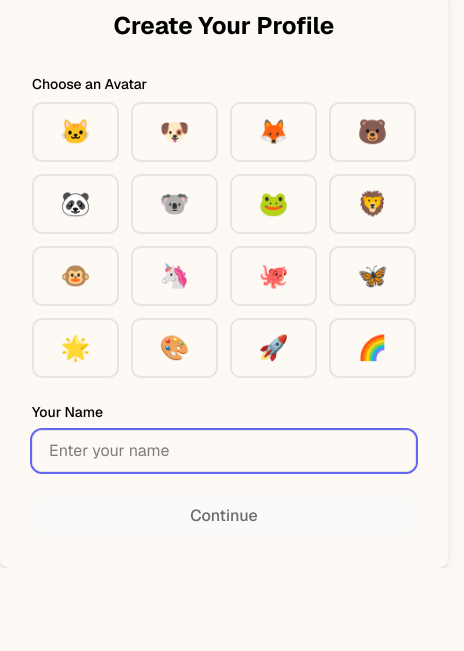
Test: CreateUserForm › error handling › displays error message on database error
Type "Test User" into the field with placeholder "Enter your name" at (224, 451), box [32,430,416,472]
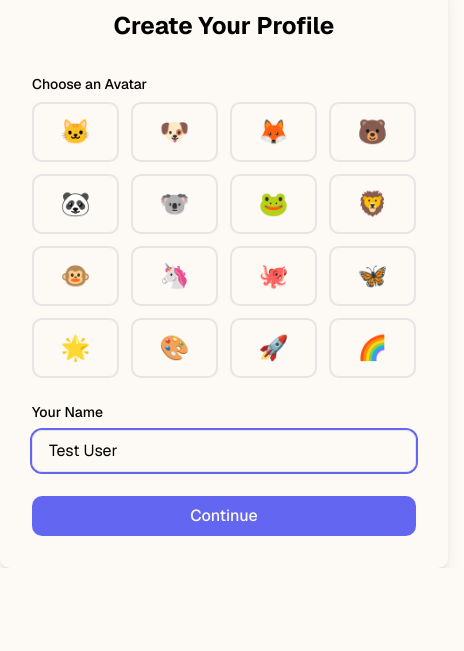
Click the button "Continue" at (224, 516), box [32,496,416,536]
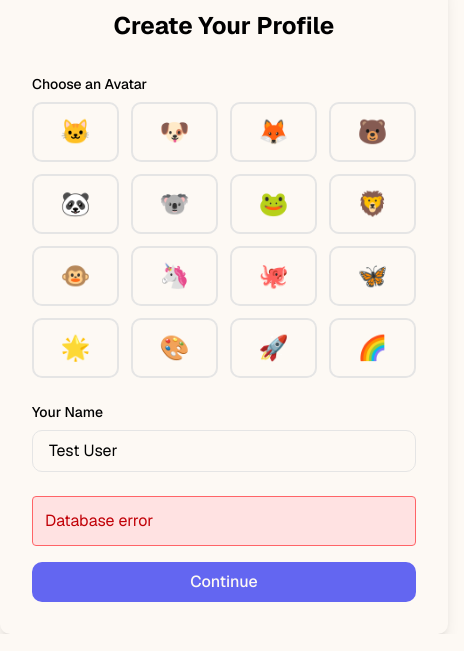
Expected: the text "Database error" is shown, [32,496,416,546]
